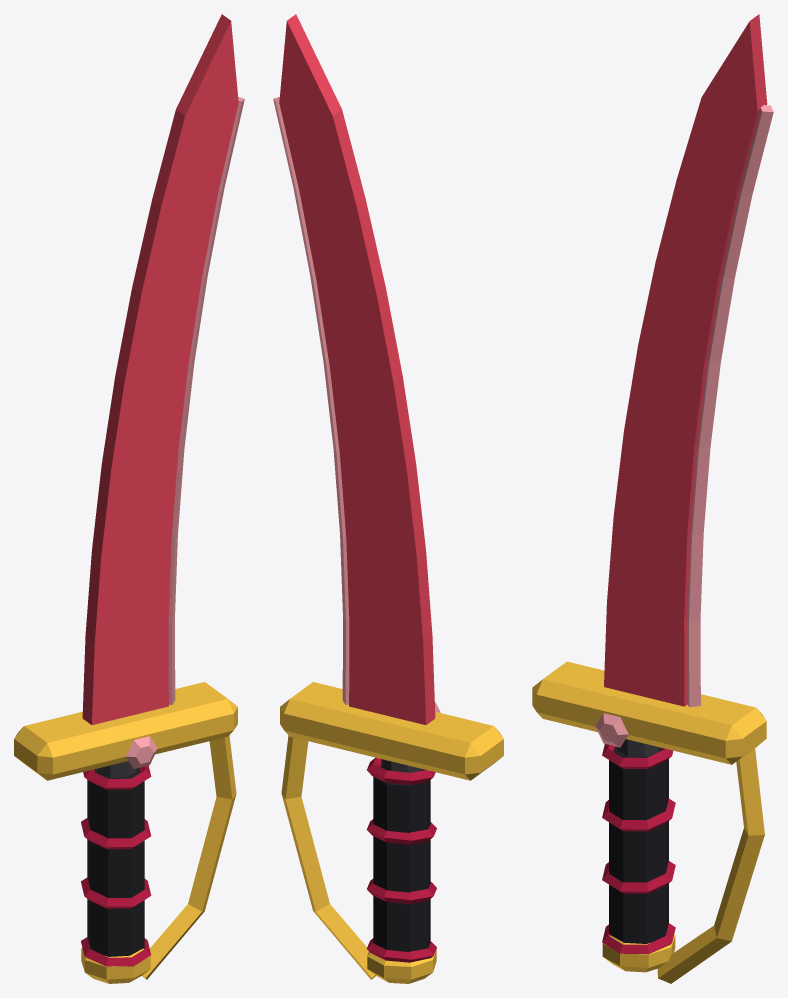
The model's file is RubyCutlass.fbx.
The picture shows the model from 3 angles, left to right: view 1: azimuth 30°, elevation 25°; view 2: azimuth 150°, elevation 25°; view 3: azimuth 330°, elevation 25°; orthographic projection. The views are drawn at different scales.
Visible parts, largest first — view 1: RubyCutlass; view 2: RubyCutlass; view 3: RubyCutlass.
Boxes of the visible parts, box(x1,y1,x2,y2) form: RubyCutlass: box(14, 14, 244, 983); RubyCutlass: box(273, 14, 503, 983); RubyCutlass: box(532, 14, 773, 983).
Size of the model in its own units: 1.09 by 4.49 by 0.4065.
1 material, 1 textured.
